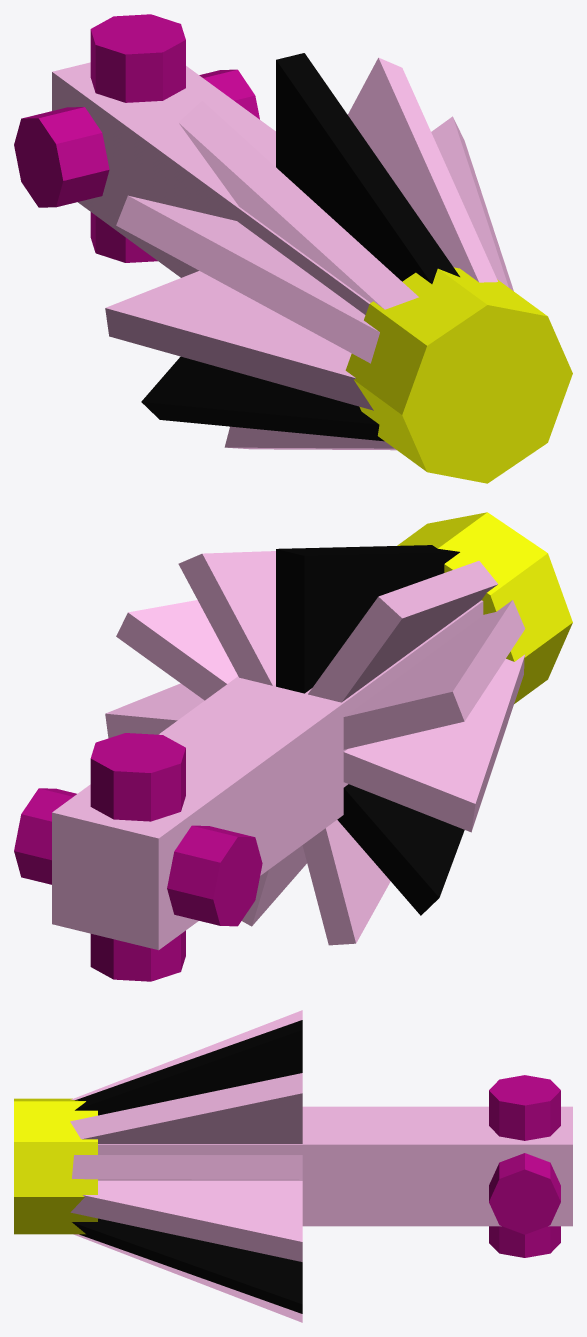
The model's file is ammo.fbx.
3 renders of one model, top to bottom at view 1: azimuth 30°, elevation 25°; view 2: azimuth 150°, elevation 25°; view 3: azimuth 270°, elevation 25°, orthographic. The views are drawn at different scales.
Parts seen in each view (by area): view 1: Empty_Mesh; view 2: Empty_Mesh; view 3: Empty_Mesh.
Boxes of the visible parts, left/top/right/bottom form: Empty_Mesh: left=14, top=14, right=572, bottom=483; Empty_Mesh: left=14, top=512, right=572, bottom=981; Empty_Mesh: left=14, top=1010, right=572, bottom=1322.
Size of the model in its own units: 5.2 by 5.15 by 9.3.
